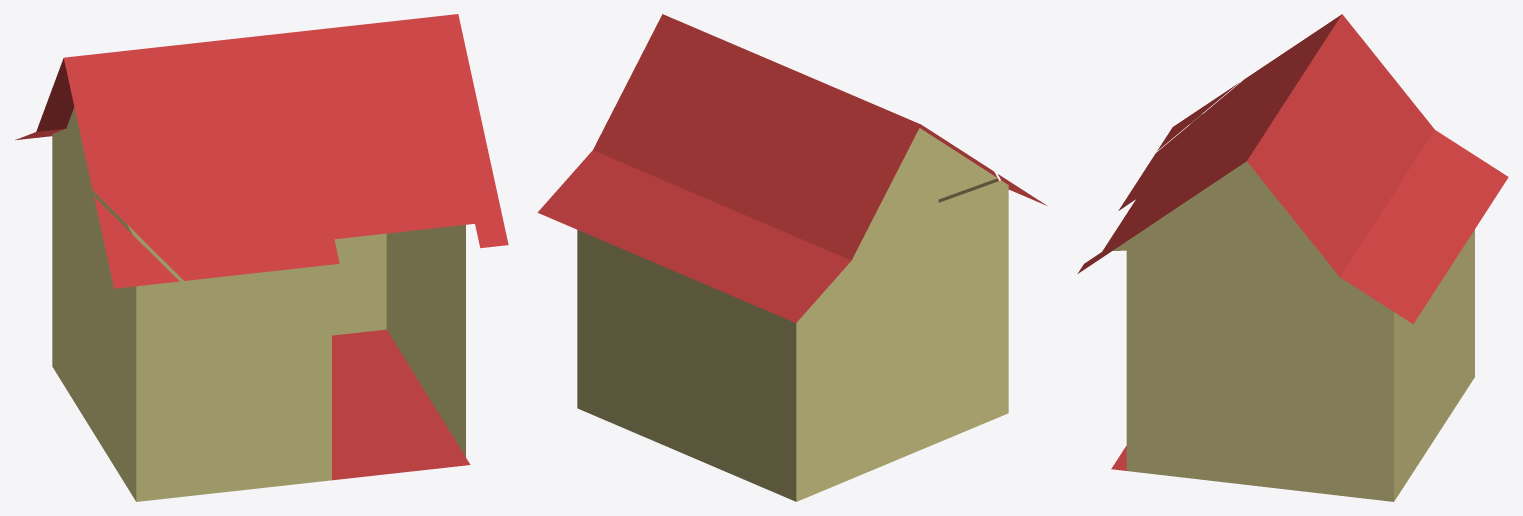
3 renders of one model, left to right at view 1: azimuth 30°, elevation 25°; view 2: azimuth 150°, elevation 25°; view 3: azimuth 270°, elevation 25°, orthographic. The views are drawn at different scales.
Size of the model in its own units: 11.98 by 11.73 by 10.07.
